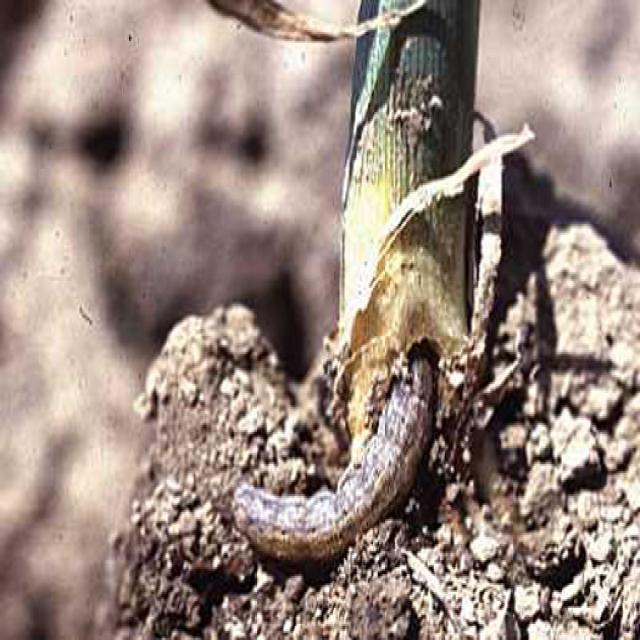Cutworm: (235, 345, 434, 555)
